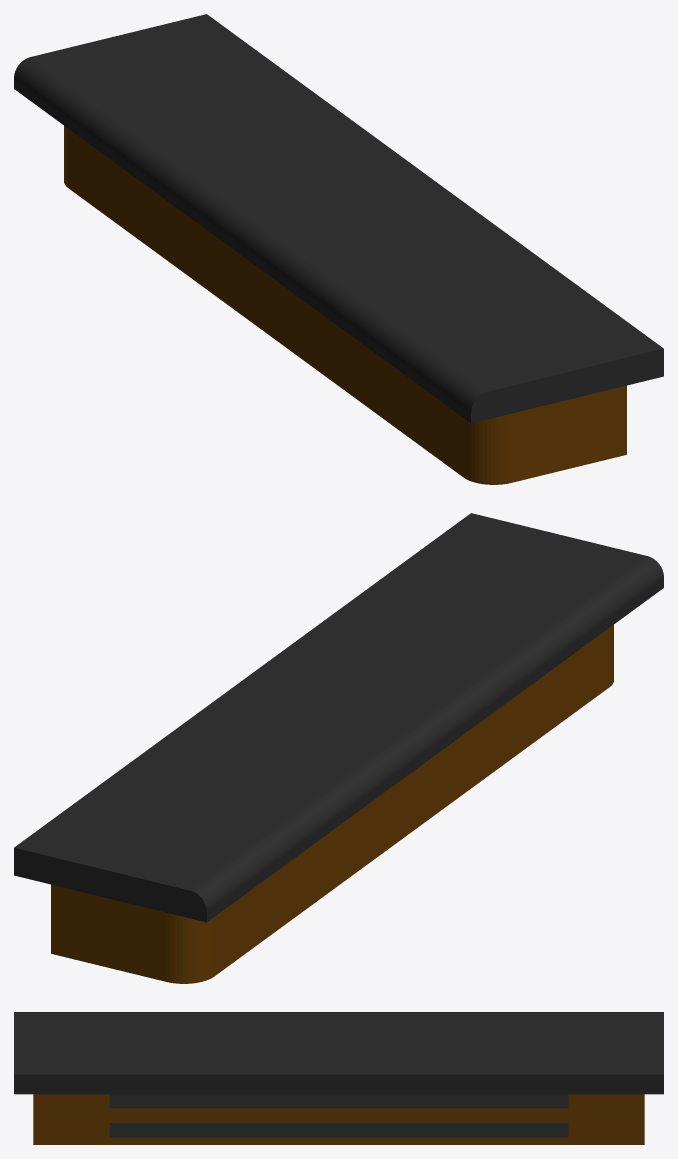
The model's file is StoreRegisterArea.fbx.
3 renders of one model, top to bottom at view 1: azimuth 30°, elevation 25°; view 2: azimuth 150°, elevation 25°; view 3: azimuth 270°, elevation 25°, orthographic. The views are drawn at different scales.
Visible parts, largest first — view 1: Cube; view 2: Cube; view 3: Cube.
Part boxes in pixels (left/top/right/bottom): Cube: left=14, top=14, right=663, bottom=484; Cube: left=14, top=513, right=663, bottom=983; Cube: left=14, top=1012, right=663, bottom=1144.
Size of the model in its own units: 200 by 109 by 821.
